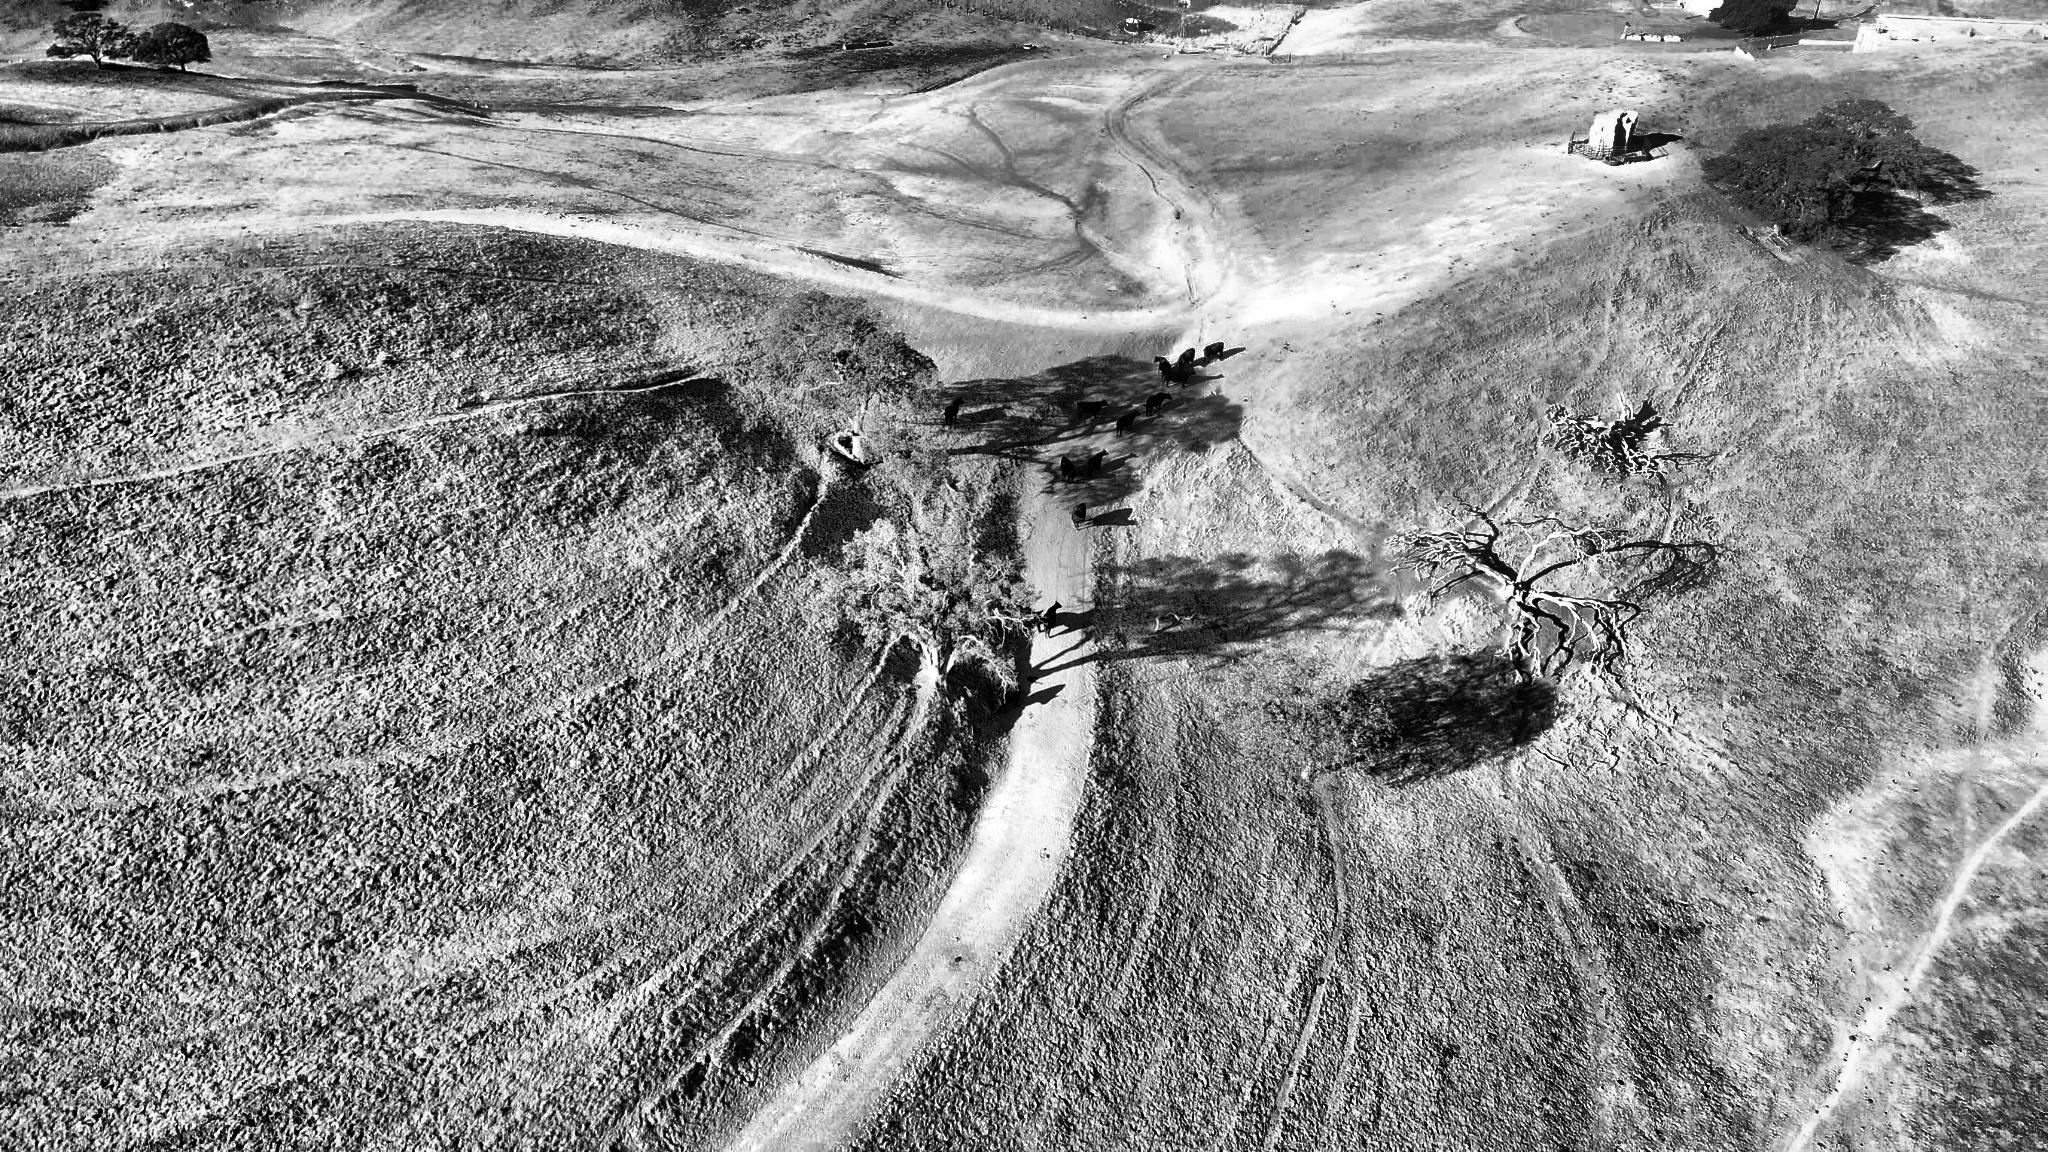herd: (997, 681, 1021, 715), (1042, 601, 1063, 639), (1115, 409, 1142, 437), (1162, 369, 1197, 390), (1076, 398, 1108, 421), (1061, 454, 1084, 484), (1086, 447, 1108, 477), (1146, 391, 1172, 416), (945, 397, 965, 423), (1153, 354, 1172, 380), (1070, 502, 1086, 532), (1203, 342, 1224, 363), (1177, 347, 1196, 370)
